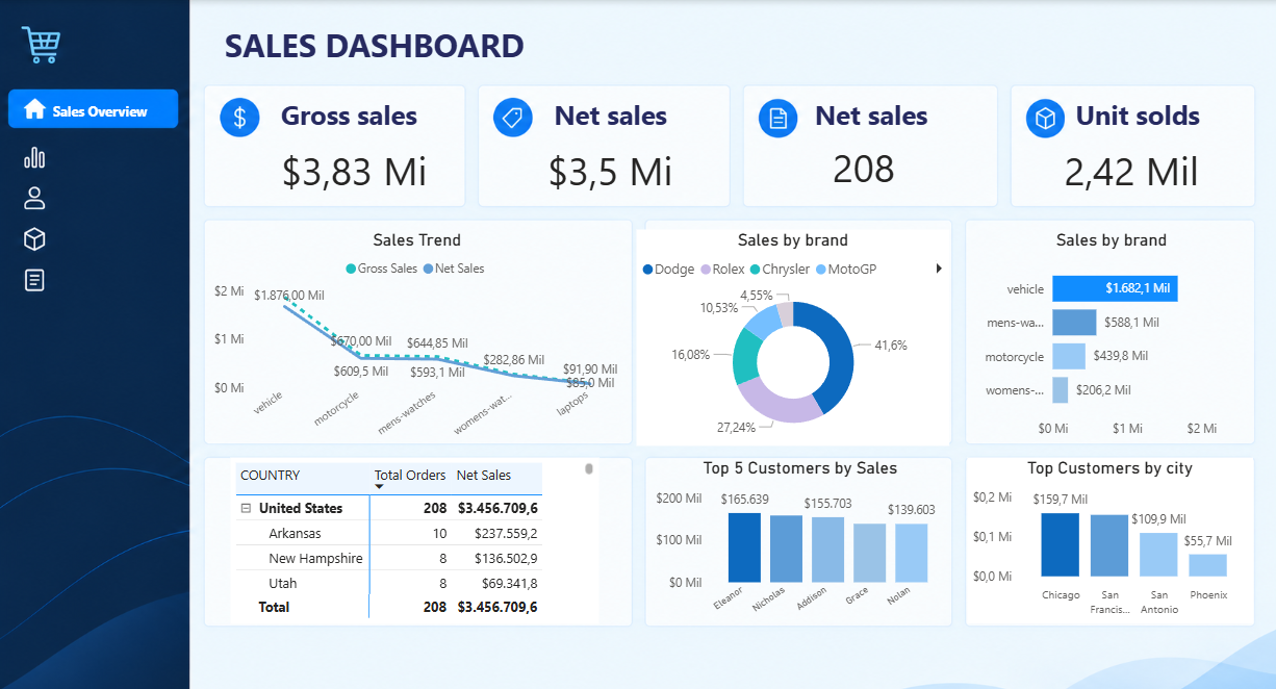

The dashboard page shown, as its layout file describes it:
{"tool":"powerbi","page":{"name":"Página 1","canvas":[1280,720],"ordinal":0},"visuals":[{"type":"card","fields":{"Values":["Measures (2).Gross Sales"]},"box":[264.3,117.1,184.3,105.7],"z":0},{"type":"card","fields":{"Values":["Measures (2).Net Sales"]},"box":[520,117.1,184.3,105.7],"z":1000},{"type":"card","fields":{"Values":["Measures (2).Total Orders"]},"box":[762.9,141.4,207.1,52.9],"z":2000},{"type":"card","fields":{"Values":["Measures (2).Units Sold"]},"box":[1042.9,124.3,184.3,88.6],"z":3000},{"type":"lineChart","title":"Sales Trend","fields":{"Category":["DIM_PRODUCTS.CATEGORY"],"Y":["Measures (2).Gross Sales","Measures (2).Net Sales"]},"box":[211.4,230,417.1,217.1],"z":4000},{"type":"donutChart","title":"Sales by brand","fields":{"Category":["DIM_PRODUCTS.BRAND"],"Y":["Measures (2).Net Sales"]},"box":[640,230,313.3,216.7],"z":5000},{"type":"pivotTable","fields":{"Rows":["FCT_SALES.COUNTRY","FCT_SALES.STATE"],"Values":["Measures (2).Total Orders","Measures (2).Net Sales"]},"box":[232.9,458.6,368.6,165.7],"z":6000},{"type":"textbox","box":[278.8,91.4,170.1,52],"z":7000},{"type":"columnChart","title":"Top 5 Customers by Sales","fields":{"Y":["Measures (2).Net Sales"],"Category":["DIM_CUSTOMERS.FIRST_NAME"]},"box":[652.9,458.6,300,165.7],"z":8000},{"type":"columnChart","title":"Top Customers by city","fields":{"Y":["Measures (2).Net Sales"],"Category":["DIM_CUSTOMERS.CITY"]},"box":[970,458.6,285.7,165.7],"z":9000},{"type":"textbox","box":[551.4,91.4,152.9,51.4],"z":10000},{"type":"textbox","box":[812.9,91.4,152.9,51.4],"z":11000},{"type":"textbox","box":[1074.3,91.4,152.9,51.4],"z":12000},{"type":"textbox","box":[221.4,17.1,288.6,52.9],"z":13000},{"type":"clusteredBarChart","title":"Sales by brand","fields":{"Y":["Measures (2).Net Sales"],"Category":["DIM_PRODUCTS.CATEGORY"]},"box":[970,230,288.6,217.1],"z":14000},{"type":"textbox","box":[50,97.1,127.1,40],"z":14001}]}

Visuals, with their boxes on the page's 1280x720 design canvas (x1, y1, x2, y2). These are canvas units, not pixel positions in the 1276x689 screenshot, which may show the page scaled, cropped or inside an application window:
card - Measures (2).Gross Sales: select_region(264, 117, 449, 223)
card - Measures (2).Net Sales: select_region(520, 117, 704, 223)
card - Measures (2).Total Orders: select_region(763, 141, 970, 194)
card - Measures (2).Units Sold: select_region(1043, 124, 1227, 213)
"Sales Trend" lineChart: select_region(211, 230, 628, 447)
"Sales by brand" donutChart: select_region(640, 230, 953, 447)
pivotTable - FCT_SALES.COUNTRY x FCT_SALES.STATE: select_region(233, 459, 602, 624)
textbox: select_region(279, 91, 449, 143)
"Top 5 Customers by Sales" columnChart: select_region(653, 459, 953, 624)
"Top Customers by city" columnChart: select_region(970, 459, 1256, 624)
textbox: select_region(551, 91, 704, 143)
textbox: select_region(813, 91, 966, 143)
textbox: select_region(1074, 91, 1227, 143)
textbox: select_region(221, 17, 510, 70)
"Sales by brand" clusteredBarChart: select_region(970, 230, 1259, 447)
textbox: select_region(50, 97, 177, 137)
